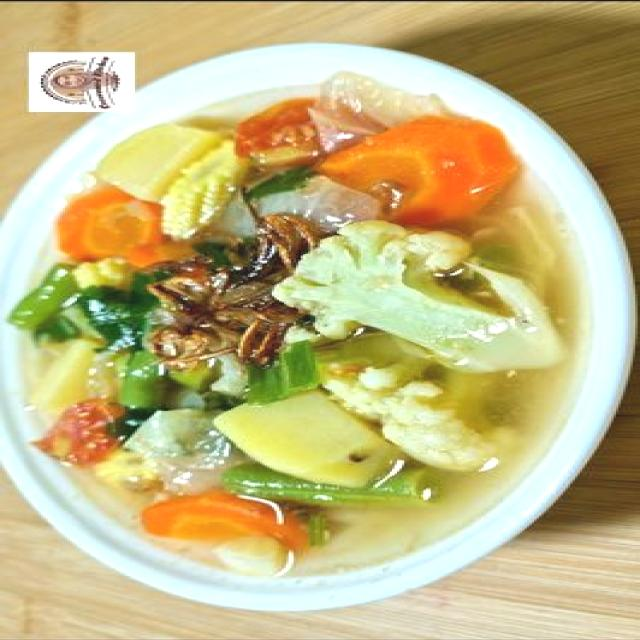sop: (10, 70, 587, 578)
